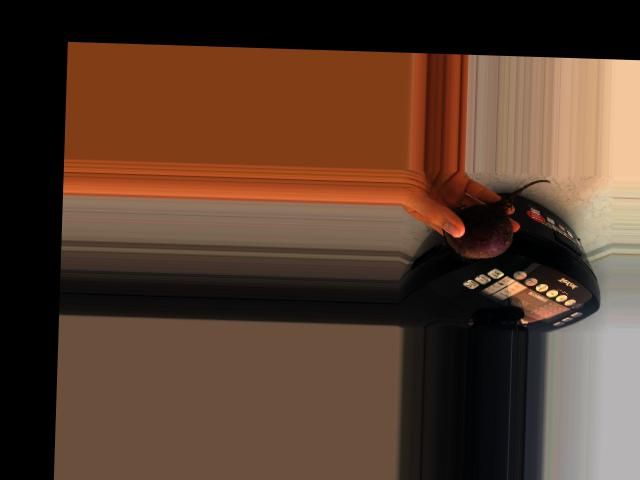beet: (442, 176, 550, 264)
